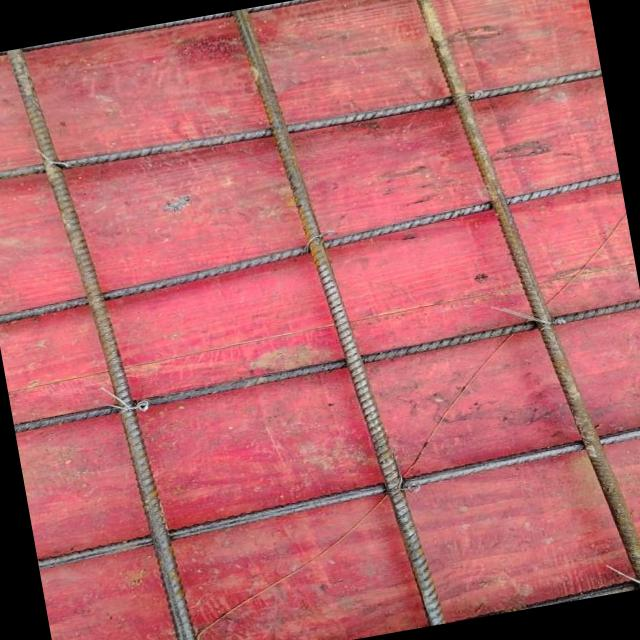ribbed bar: (405, 0, 640, 609), (226, 0, 444, 640), (1, 35, 204, 640), (0, 171, 625, 327), (32, 419, 640, 570), (10, 298, 640, 434), (0, 62, 601, 189)
